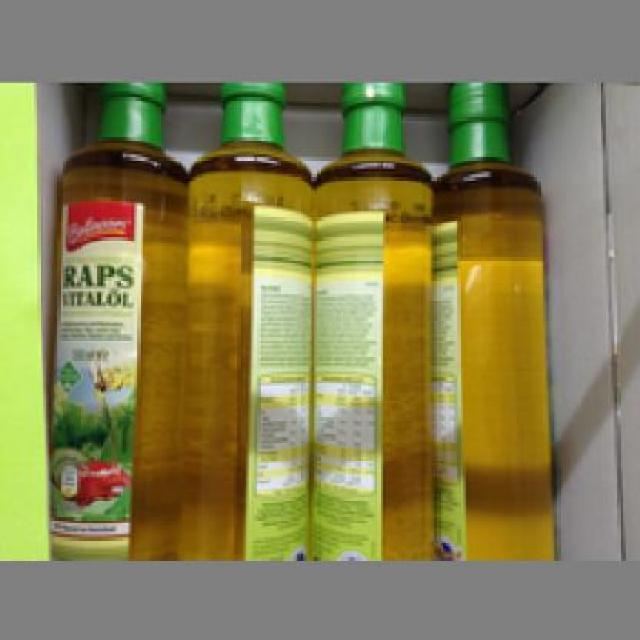Oil: (40, 79, 183, 552), (178, 82, 312, 558), (425, 80, 558, 557), (308, 82, 432, 558)
